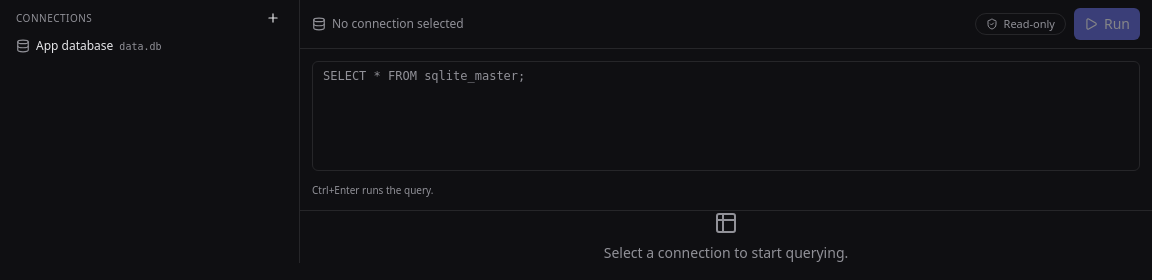
Scenario: DatabasePage write safety › starts read-only, with no warning on screen
Click the button "App database data.db" at (136, 46), box [16, 38, 257, 54]
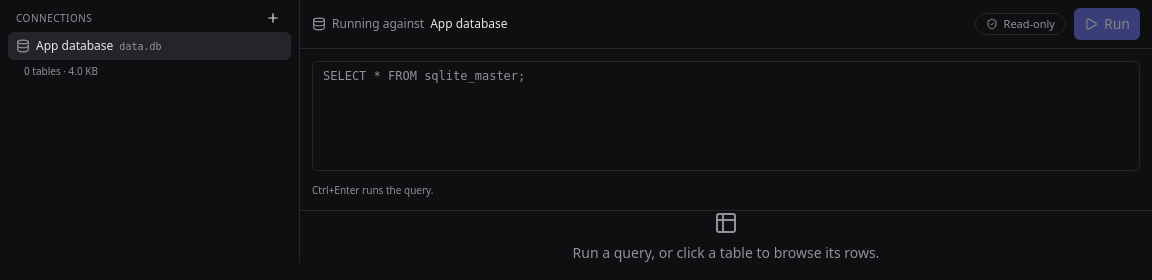
Expected: the button with aria-label "Allow SQL writes" reads "Read-only", [974, 13, 1066, 35]
Expected: the text "0 tables · 4.0 KB" is shown, [24, 64, 98, 78]
